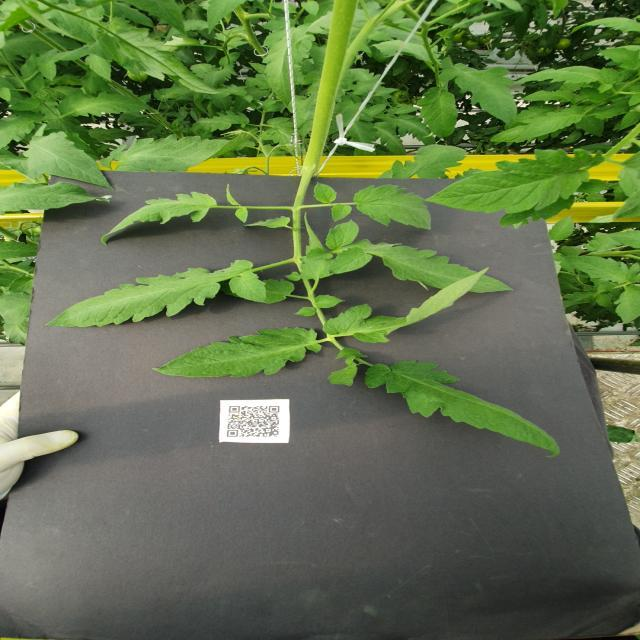Tomato healthy leaf: (363, 359, 561, 459), (44, 260, 268, 328), (322, 266, 491, 344), (424, 147, 606, 214), (328, 239, 515, 295), (152, 326, 322, 379), (100, 191, 218, 246), (438, 62, 523, 130), (22, 130, 115, 190), (110, 132, 234, 172), (262, 23, 317, 108), (0, 181, 111, 217), (351, 184, 432, 232), (510, 64, 620, 94), (488, 111, 584, 143), (56, 88, 154, 118), (560, 252, 640, 284), (416, 85, 458, 138), (414, 144, 468, 178), (0, 110, 45, 150), (593, 44, 640, 72), (569, 17, 640, 35), (192, 110, 250, 132), (394, 114, 436, 144), (612, 284, 640, 324), (523, 88, 584, 104), (325, 220, 359, 248), (85, 54, 114, 85), (326, 362, 358, 387), (602, 229, 640, 249), (549, 215, 576, 242), (312, 181, 338, 204), (331, 204, 352, 222)
